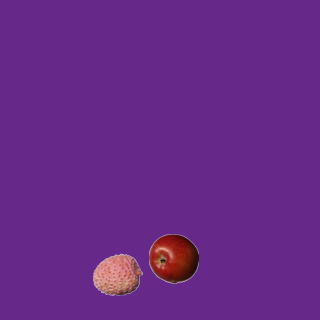Apple Braeburn: (148, 233, 198, 283)
Lychee: (92, 249, 142, 299)
